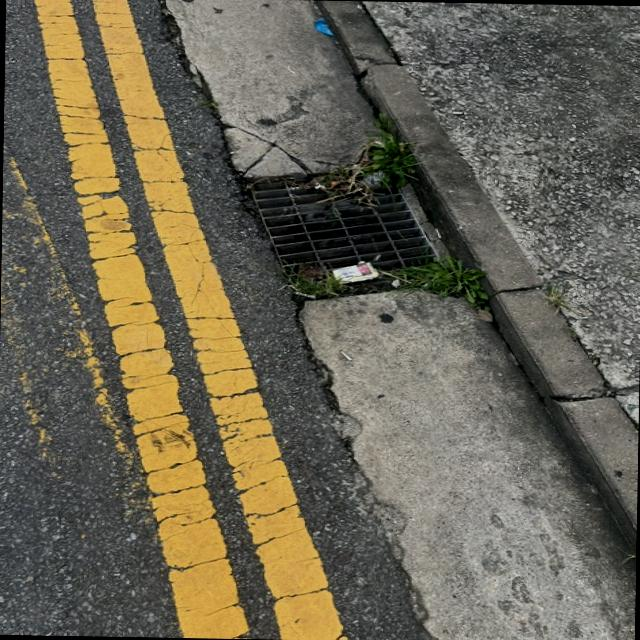drain_area: (253, 184, 435, 268)
drain_full: (250, 171, 448, 302)
